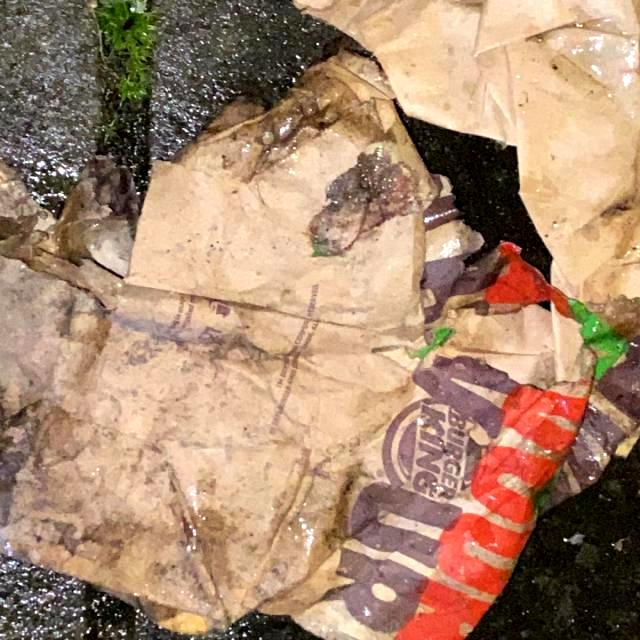Paper: (0, 49, 638, 639), (292, 2, 640, 384)
